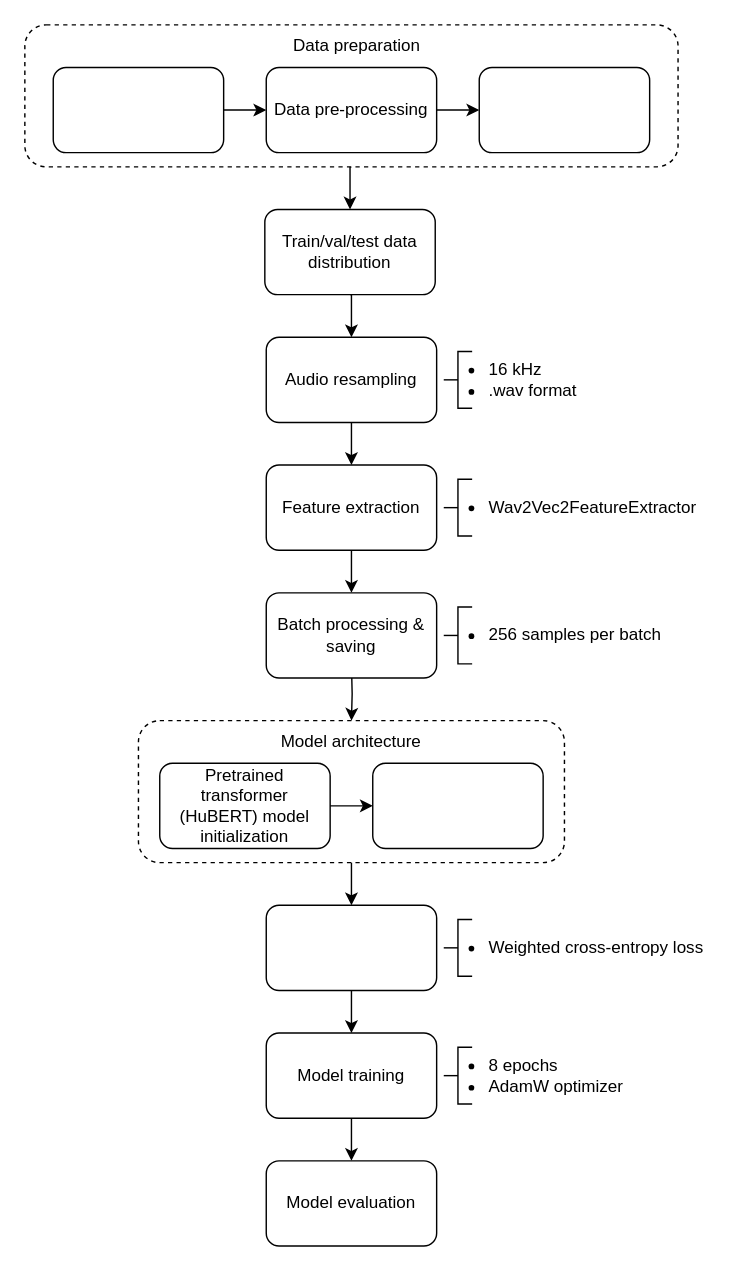
This 738x1271 diagram has some shape labels left out. Here are the shapes that lost their labels. From the top down, the centre of each, then its label:
At point (138, 109): "Dataset loading".
At point (564, 109): "Data aggregation *".
At point (457, 805): "Data loaders setup".
At point (351, 947): "Loss function".
